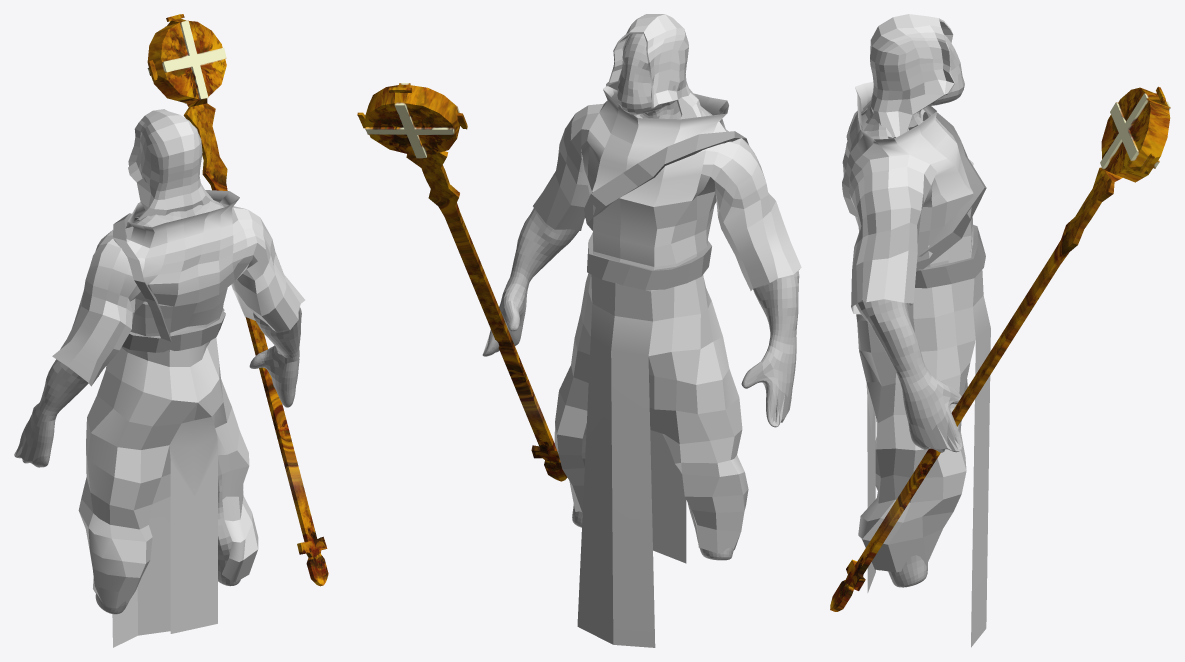
File: Priest.fbx
3 views of the same model, side by side, from view 1: azimuth 30°, elevation 25°; view 2: azimuth 150°, elevation 25°; view 3: azimuth 270°, elevation 25° (orthographic). The views are drawn at different scales.
Parts seen in each view (by area): view 1: polySurface151, polySurface143; view 2: polySurface151, polySurface143; view 3: polySurface151, polySurface143.
Part boxes in pixels (x1,y1,x2,y2): polySurface151: [14, 109, 305, 647]; polySurface143: [147, 14, 328, 586]; polySurface151: [482, 14, 801, 647]; polySurface143: [357, 83, 567, 481]; polySurface151: [842, 14, 990, 647]; polySurface143: [830, 86, 1170, 611].
Size of the model in its own units: 2.88 by 5.1 by 2.58.
